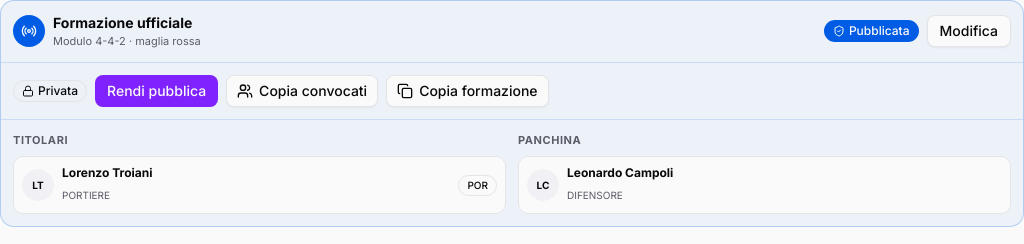
Test: OfficialFormationPanel › lets a manager see the private lineup and make it public
Expected: the heading "Titolari" is shown, 13,132 -> 68,146
Expected: the text "Privata" is shown, 13,80 -> 87,102
Click the button "Rendi pubblica". click: [157, 90]
box: 95,74 -> 218,106
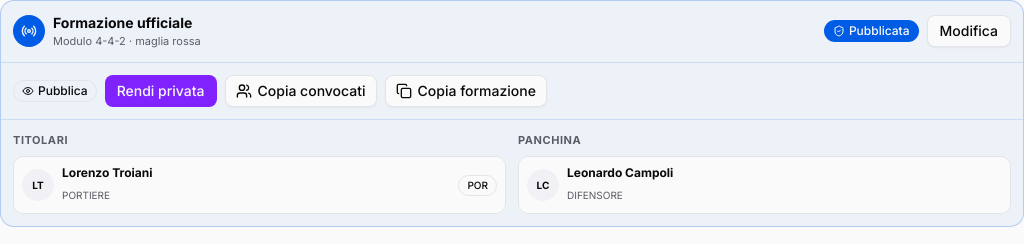
Expected: the text "Pubblica" is shown, 13,80 -> 97,102
Expected: the button "Rendi privata" is shown, 105,74 -> 216,106
